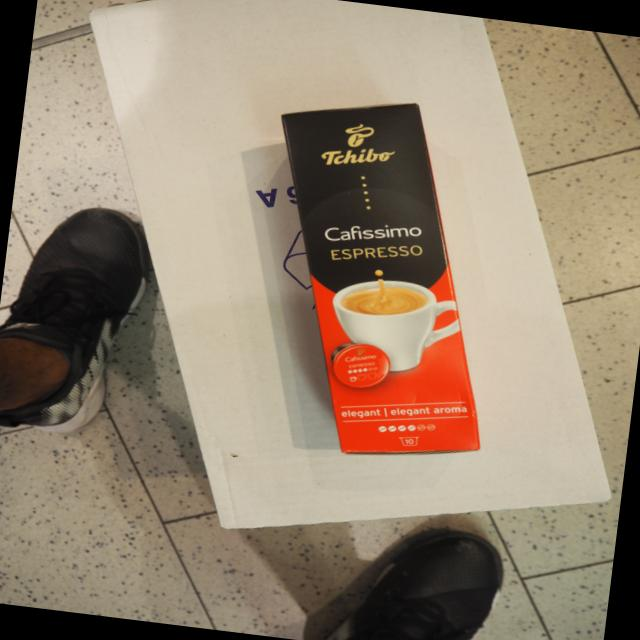Simo Es Elegant: (276, 98, 487, 456)
